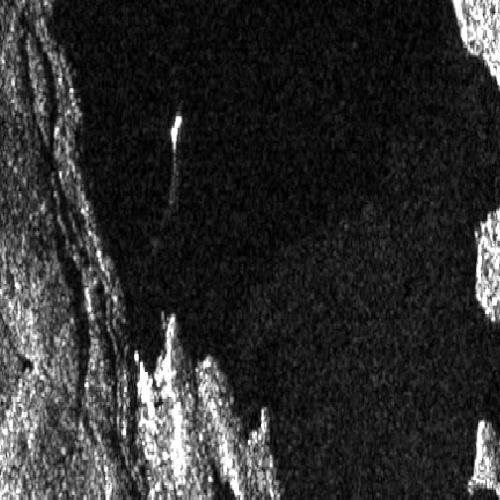ship: (170, 113, 183, 154)
